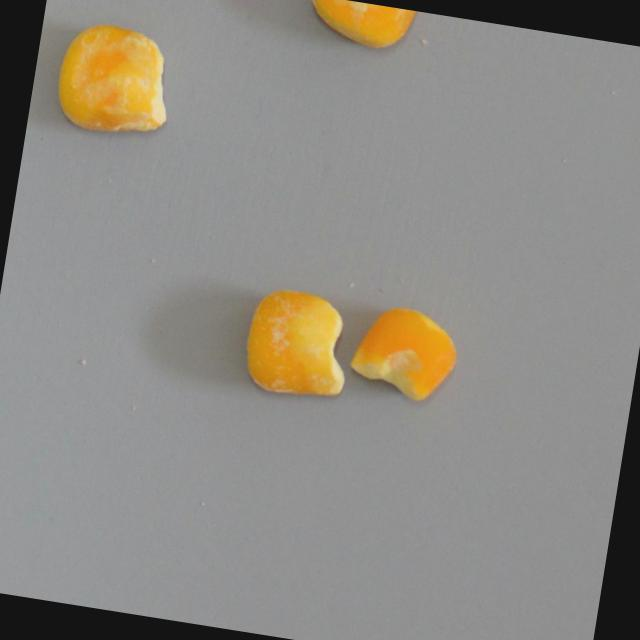dañado: (43, 10, 190, 148), (296, 0, 435, 65)
no_desgerminado: (341, 297, 468, 409)
pelicula: (235, 278, 359, 409)
